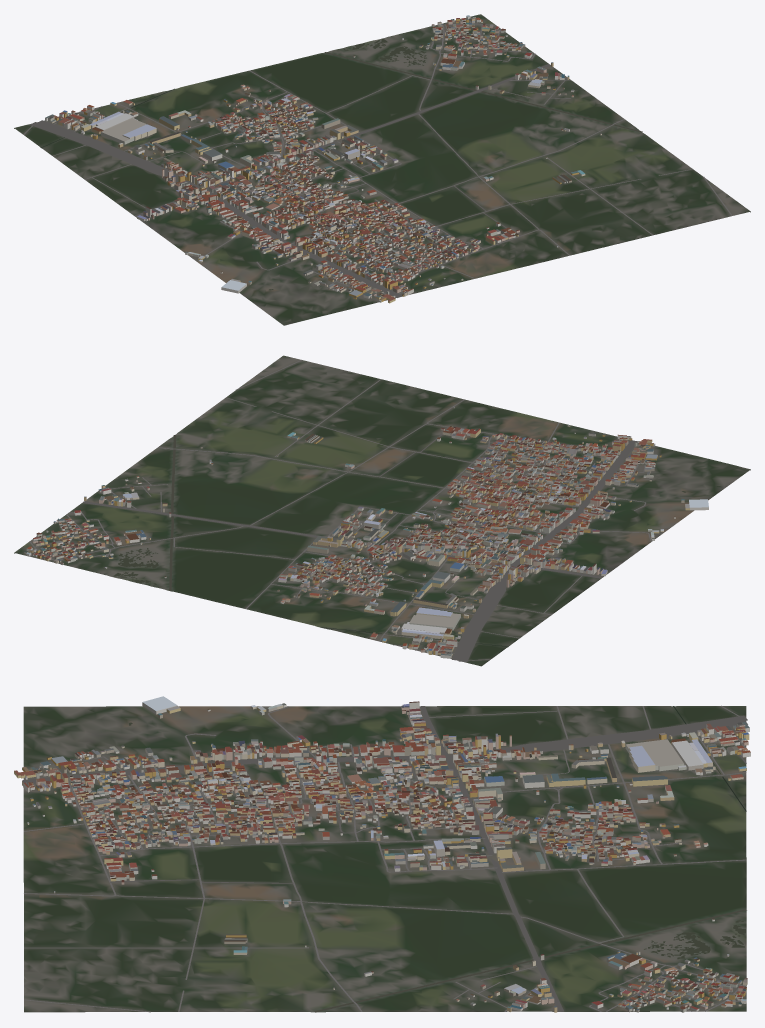
3 renders of one model, top to bottom at view 1: azimuth 30°, elevation 25°; view 2: azimuth 150°, elevation 25°; view 3: azimuth 270°, elevation 25°, orthographic. The views are drawn at different scales.
Parts seen in each view (by area): view 1: ground, buildings, roads, water; view 2: ground, buildings, roads, water; view 3: ground, buildings, roads, water.
Part boxes in pixels (<box>): ground: <box>14,14,750,325</box>; buildings: <box>45,15,601,303</box>; roads: <box>23,20,732,297</box>; water: <box>41,38,642,290</box>; ground: <box>14,355,750,666</box>; buildings: <box>24,407,708,658</box>; roads: <box>29,360,652,661</box>; water: <box>113,435,685,646</box>; ground: <box>23,706,746,1012</box>; buildings: <box>14,696,750,1012</box>; roads: <box>22,705,747,1012</box>; water: <box>129,706,746,1012</box>.
Size of the model in its own units: 1436 by 30.89 by 1429.
